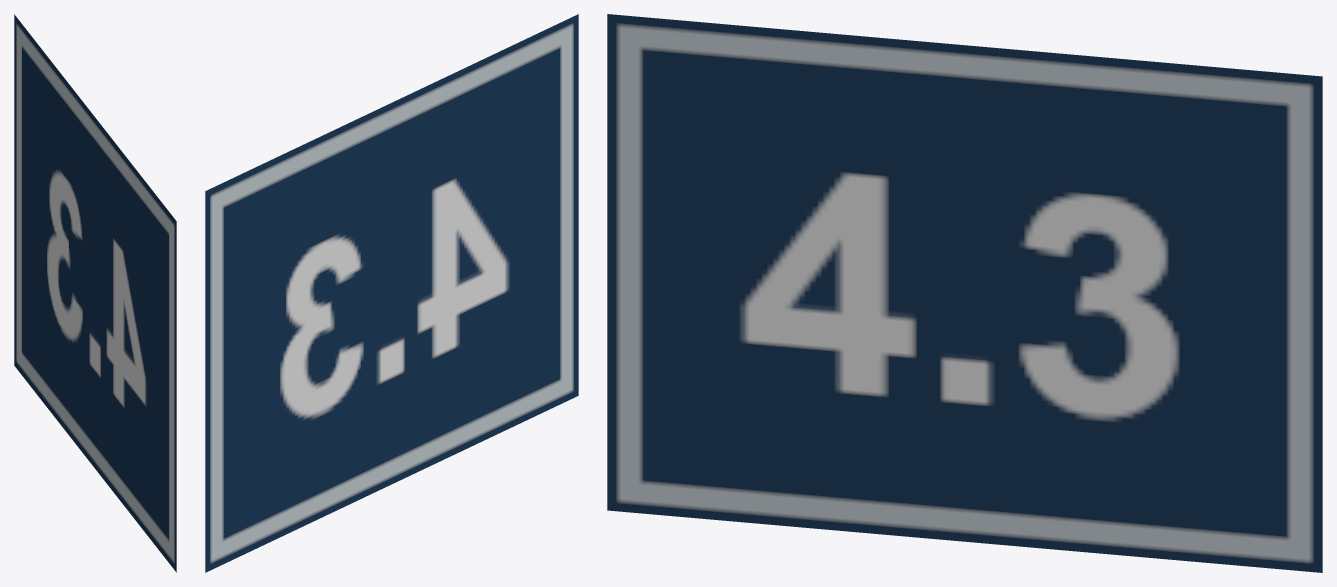
File: cell-495_90.glb
The picture shows the model from 3 angles, left to right: view 1: azimuth 30°, elevation 25°; view 2: azimuth 150°, elevation 25°; view 3: azimuth 270°, elevation 25°; orthographic projection. The views are drawn at different scales.
Parts seen in each view (by area): view 1: cell-495_90; view 2: cell-495_90; view 3: cell-495_90.
Boxes of the visible parts, left/top/right/bottom form: cell-495_90: left=14, top=14, right=176, bottom=572; cell-495_90: left=205, top=14, right=578, bottom=572; cell-495_90: left=607, top=14, right=1322, bottom=572.
Size of the model in its own units: 0.0243 by 0.09 by 0.1175.
1 material, 1 textured.
